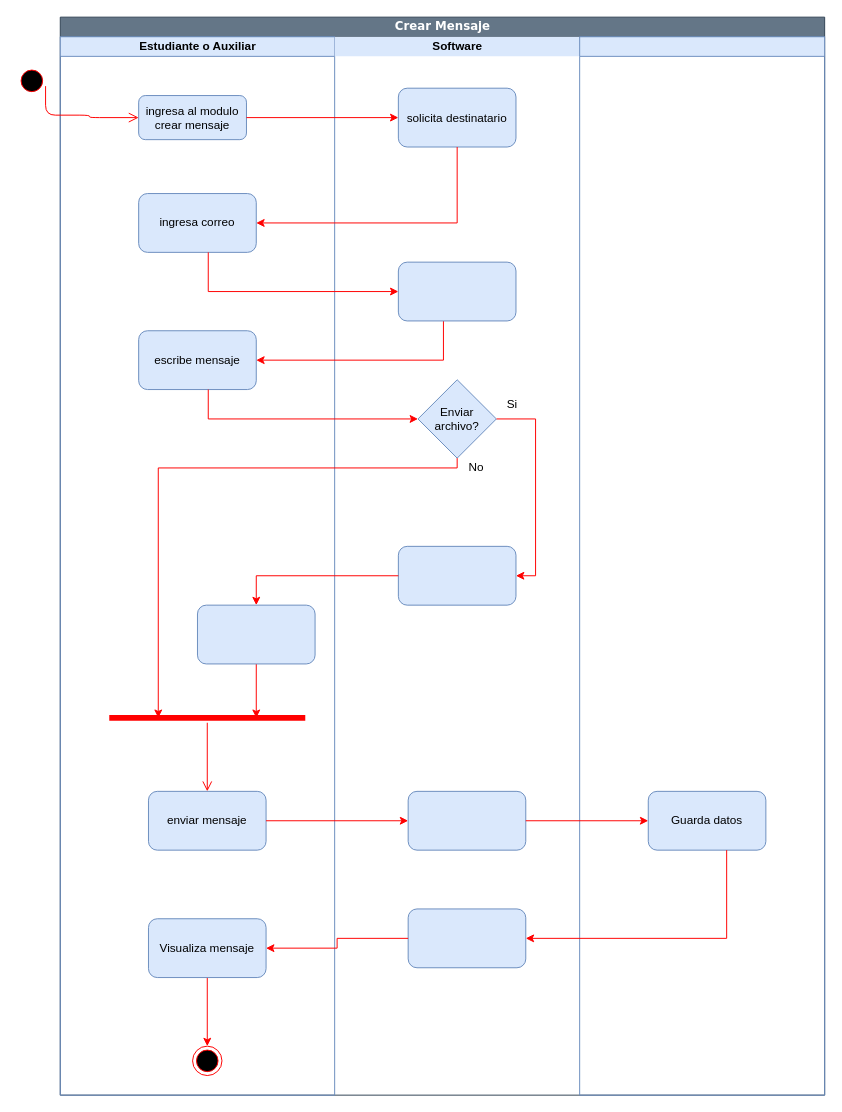
The diagram is 842 pixels wide and 1112 high, and some of its shapes have lost their labels. Here are the shapes that lost their labels. From the top down, the box of each, then its label:
(397, 261, 516, 321): solicita cuerpo del mensaje
(397, 545, 516, 605): solicita archivo
(579, 36, 825, 1095): BD
(196, 604, 315, 664): sube archivo
(407, 790, 526, 850): enviar datos
(407, 908, 526, 968): Envia mensaje de guardado
